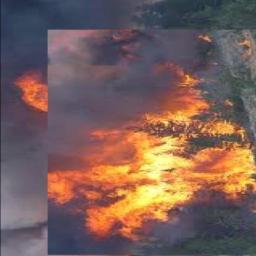Large fire: (47, 117, 256, 239)
Low smoke: (62, 35, 160, 107)
Small fire: (10, 64, 54, 117)
